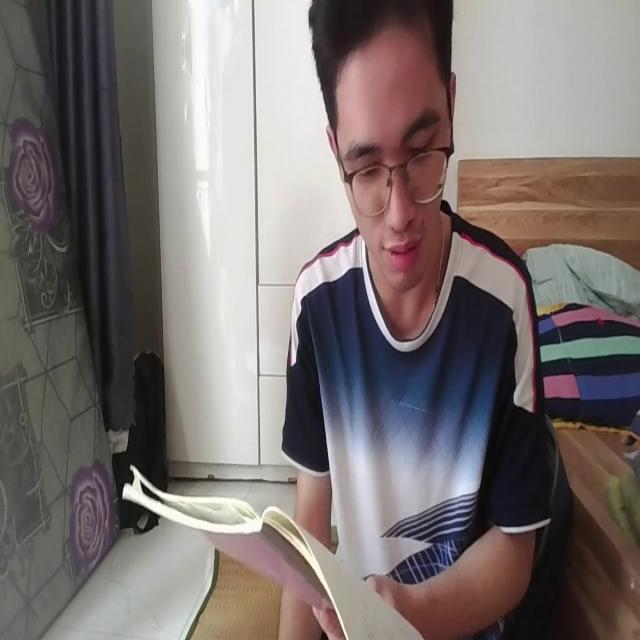book: (119, 460, 428, 640)
student: (278, 2, 540, 640)
